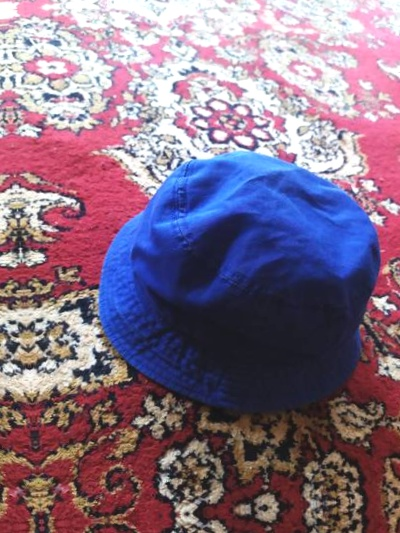Hat: (84, 93, 384, 425)
